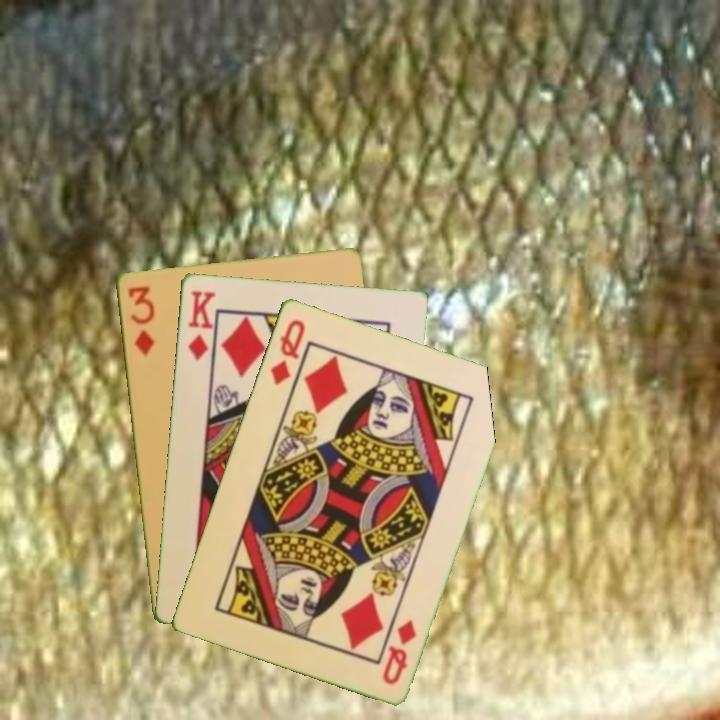3d: (124, 282, 157, 359)
Kd: (184, 287, 218, 363)
Qd: (266, 315, 308, 388), (378, 615, 419, 687)
